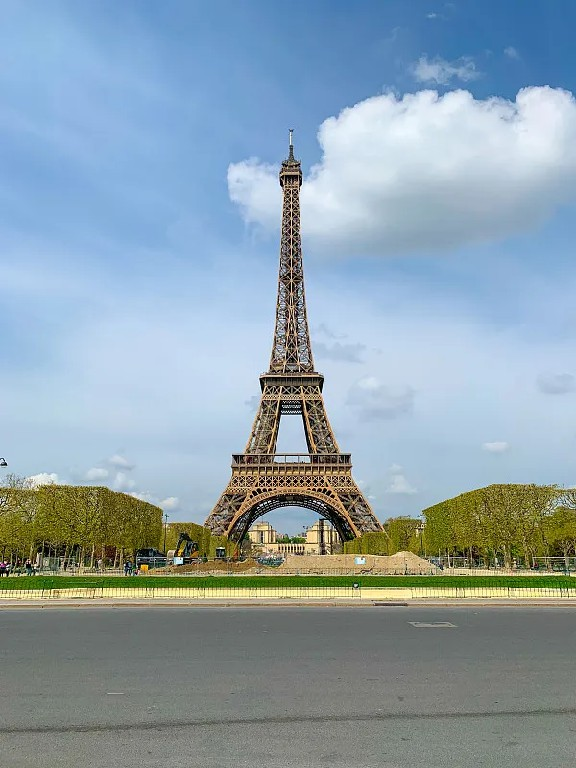Eiffel: (202, 129, 395, 554)
